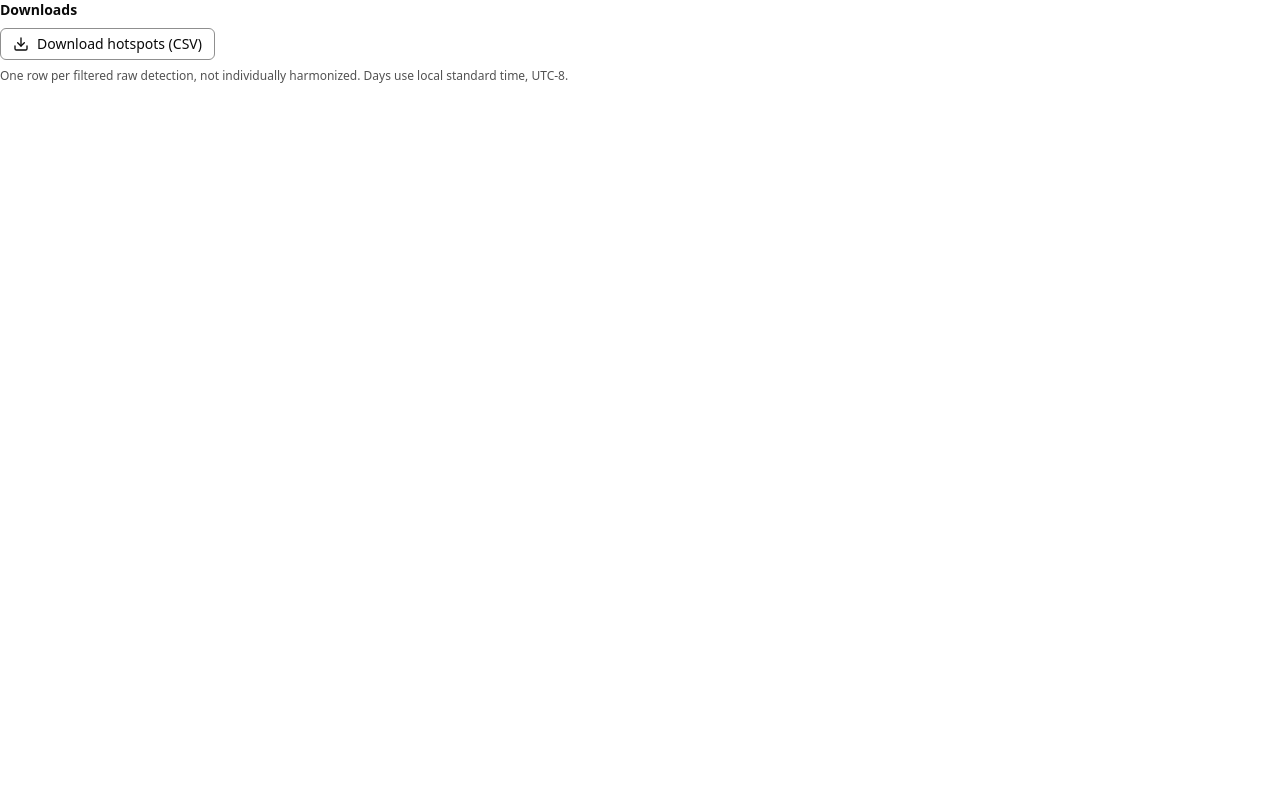
Test: DownloadsMenu with the Blob fallback › reports "Download incomplete" when the file does not end with # rows:
Click the button "Download hotspots (CSV)": click(108, 44) [0, 28, 215, 60]
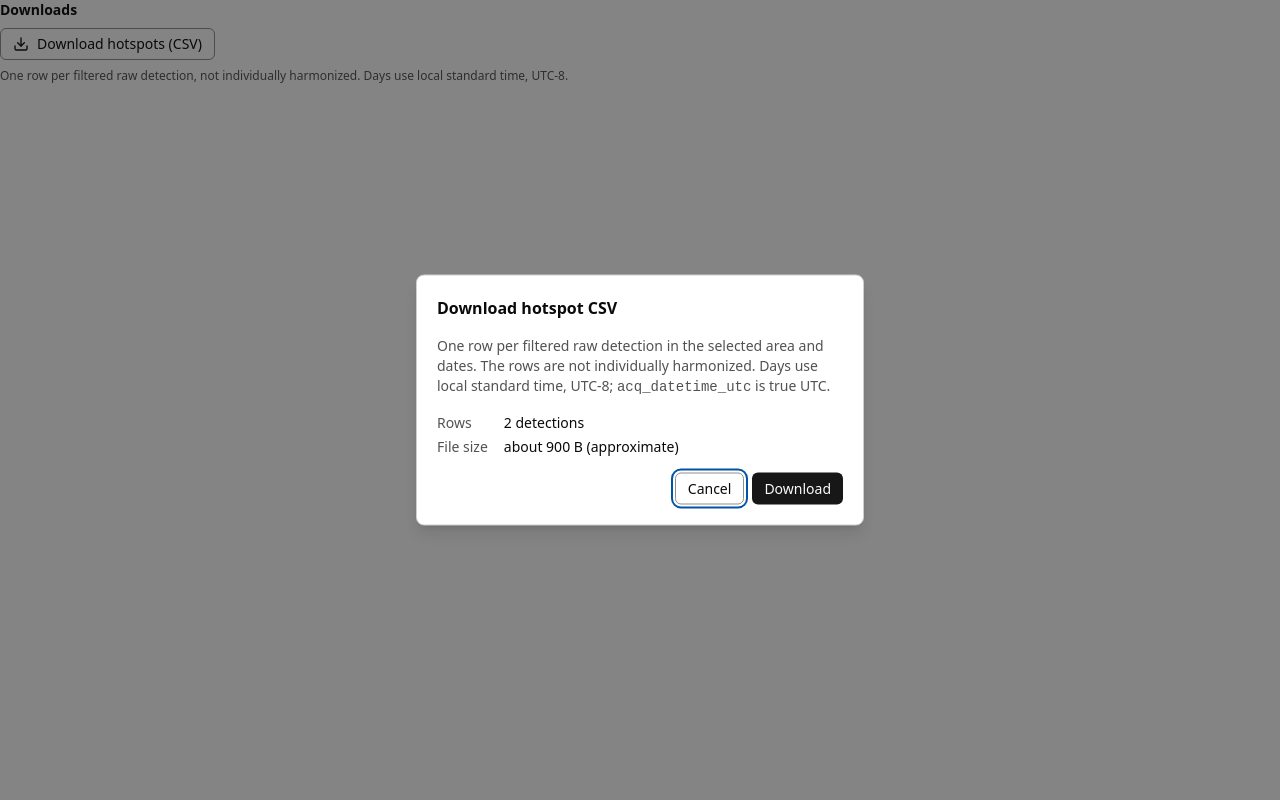
Click the button "Download": click(798, 488) [752, 472, 843, 504]
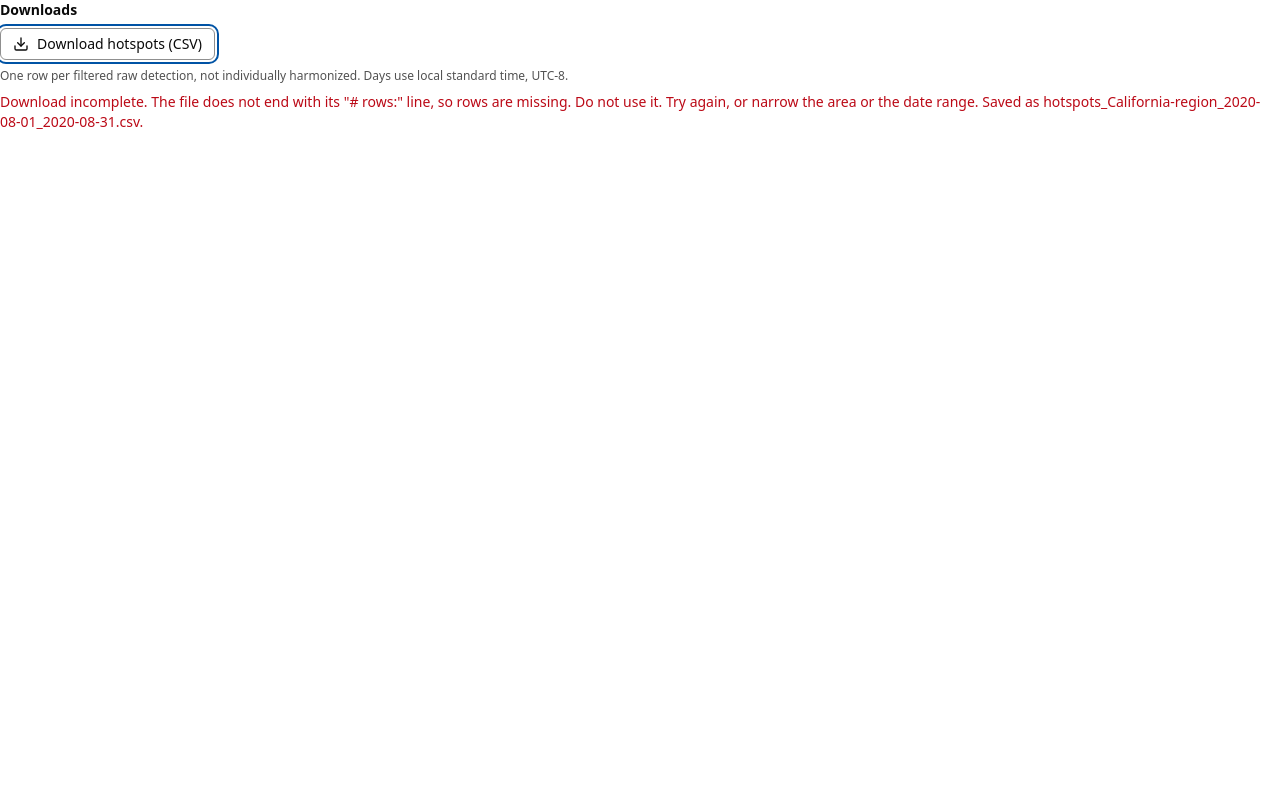
Now the message with test id "download-status" shows "Download incomplete", box [0, 92, 1260, 131]
